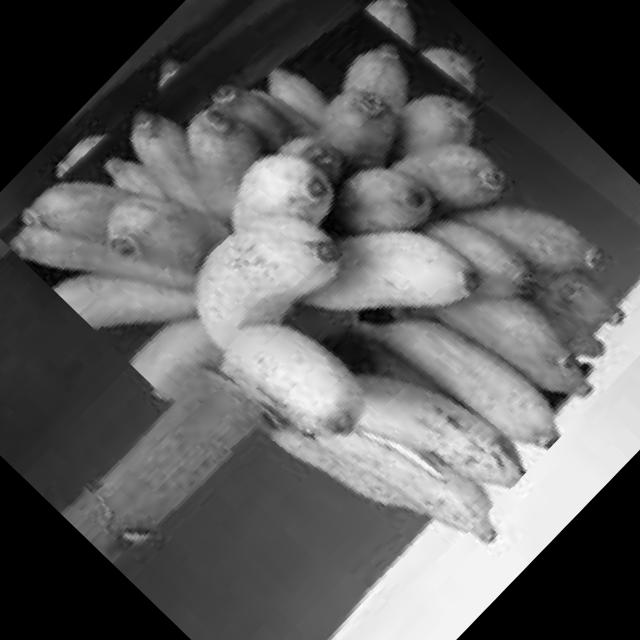Organic: (0, 0, 640, 613), (42, 377, 240, 576)
